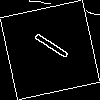I: (25, 25, 71, 62)
